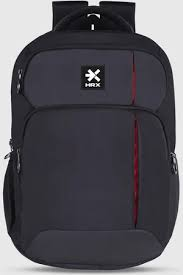backpack: (2, 0, 179, 270)
